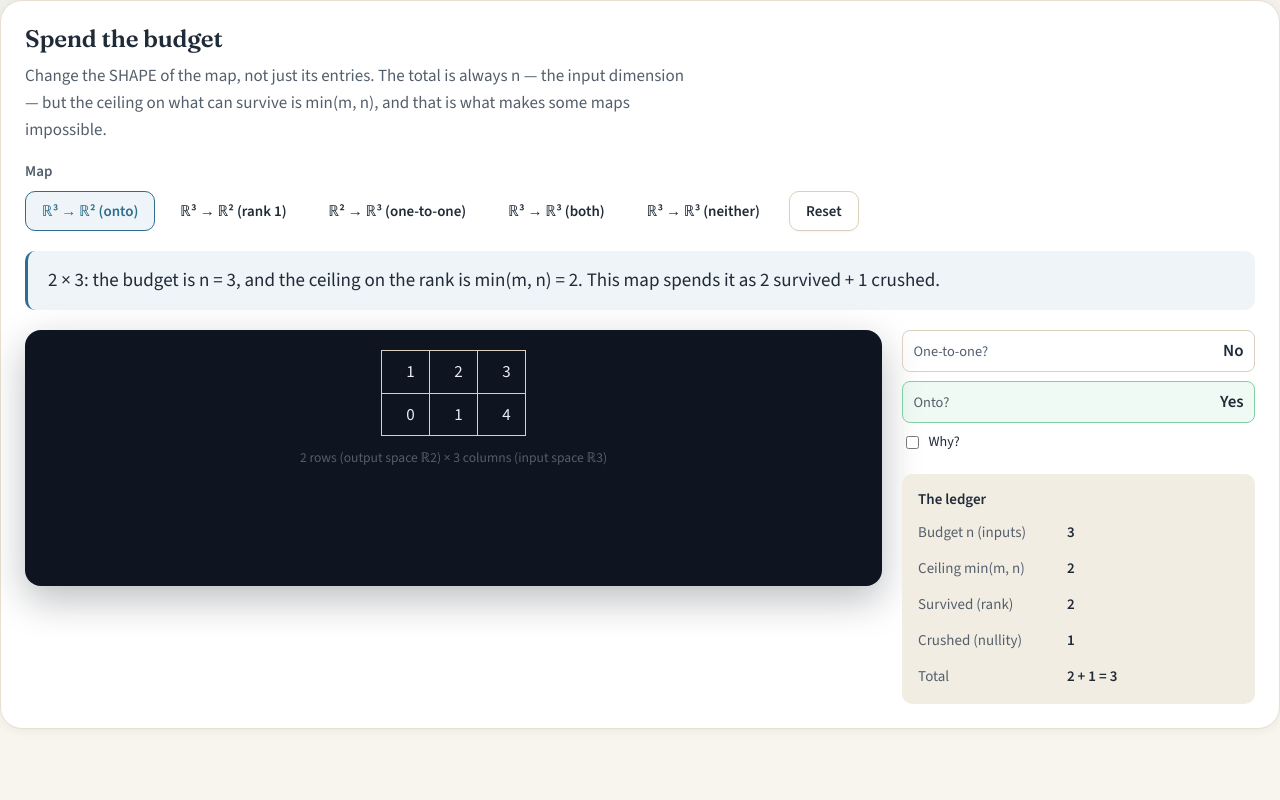
Test: RankNullityExplorer › reset returns to the wide map
Step 1. Click the button "ℝ³ → ℝ³ (both)" → (556, 211), box [491,191,622,231]
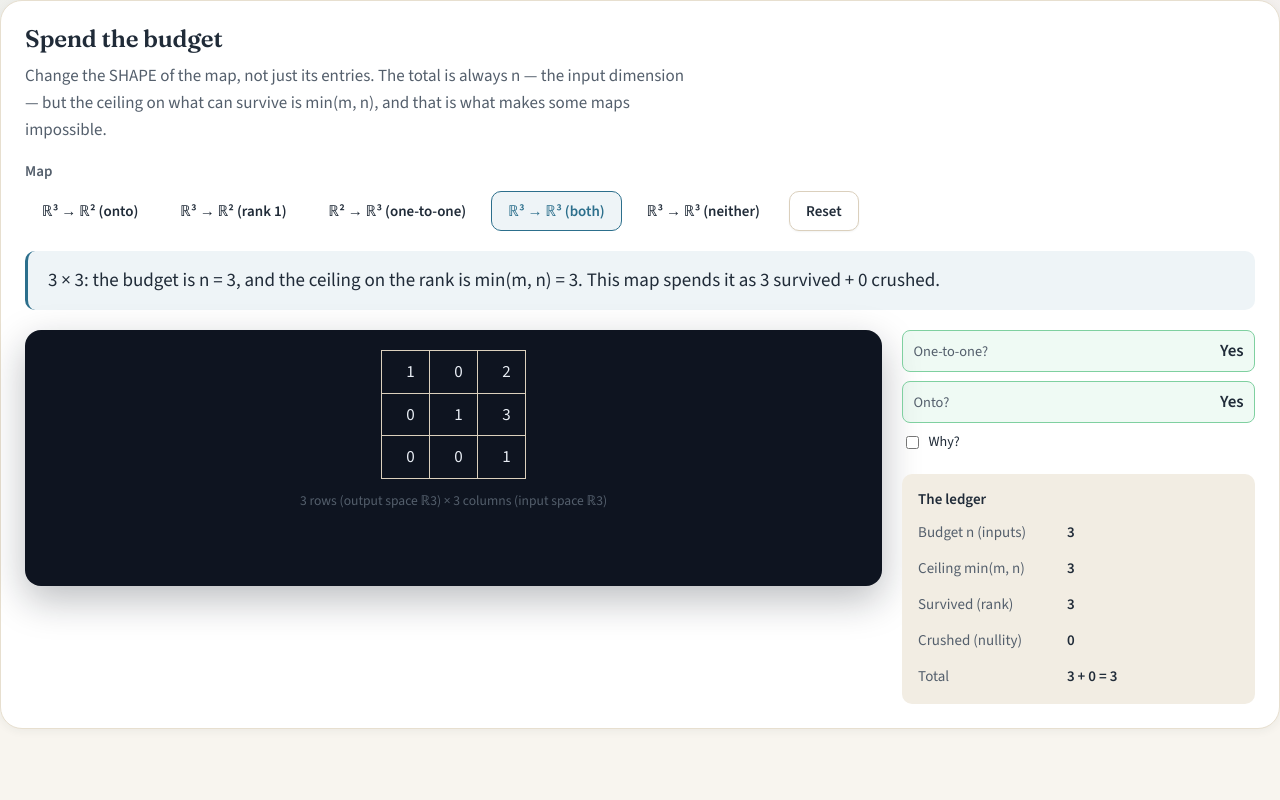
Step 2. Click the button "Reset" → (824, 211), box [789,191,859,231]
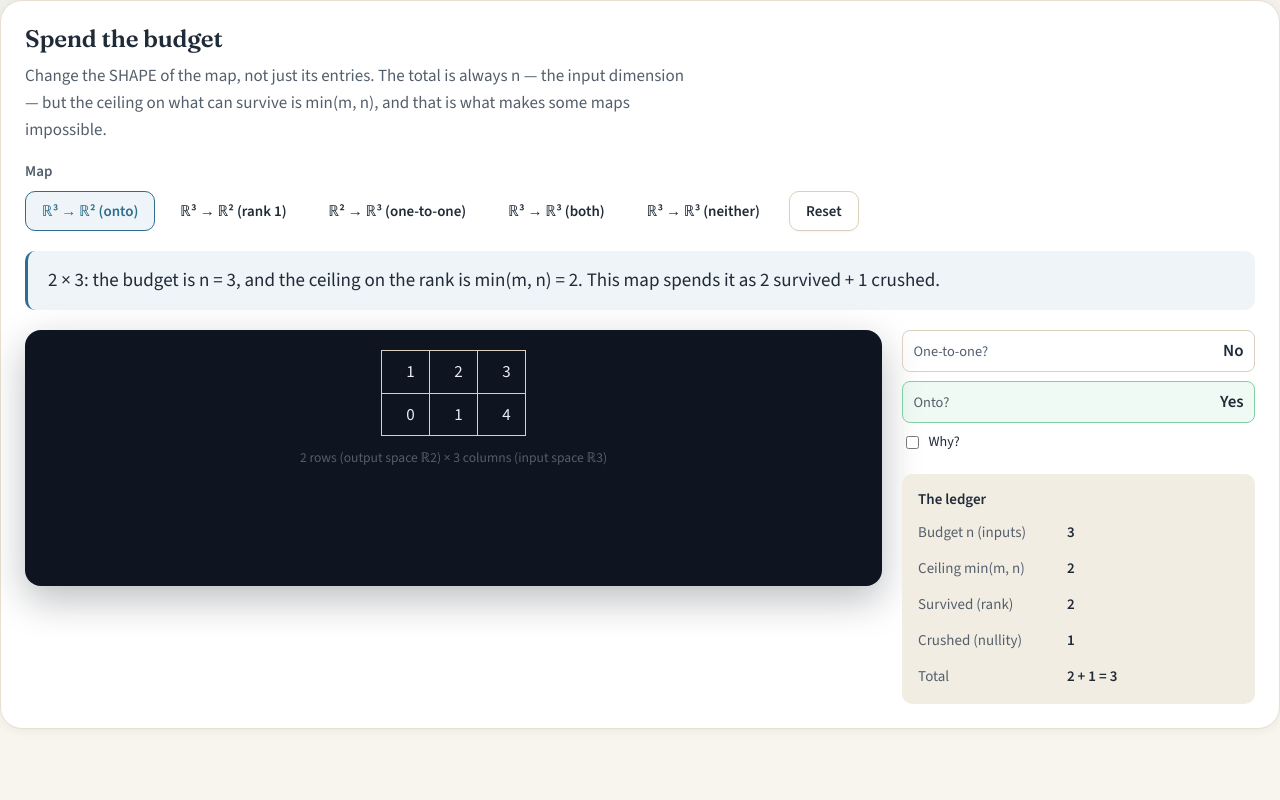
Check: the text with test id "rn-total" reads "2 + 1 = 3", box [1067,666,1117,686]
